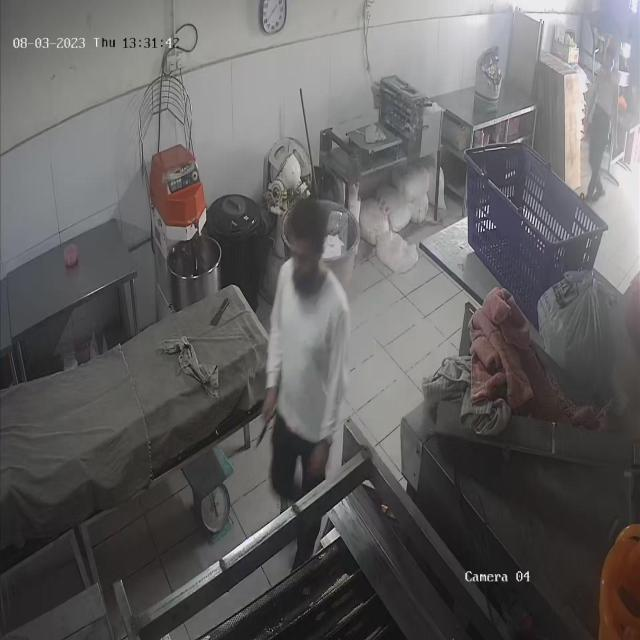Knife: (250, 396, 272, 455)
